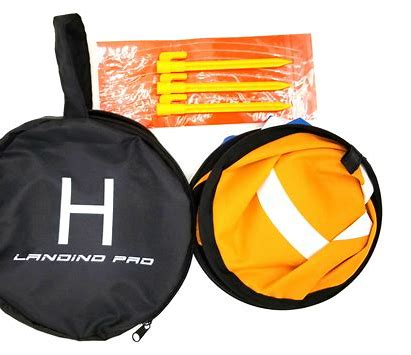H: (58, 178, 114, 247)
